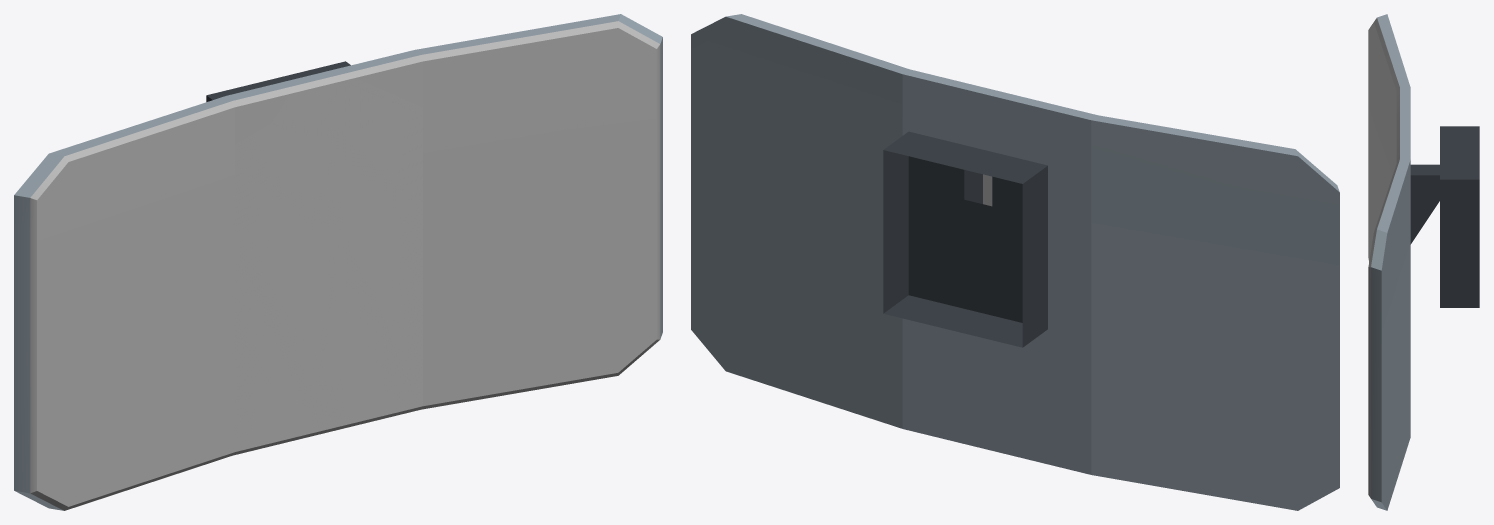
Rendered from Arrivals Monitor.fbx.
3 renders of one model, left to right at view 1: azimuth 30°, elevation 25°; view 2: azimuth 150°, elevation 25°; view 3: azimuth 270°, elevation 25°, orthographic. The views are drawn at different scales.
Parts seen in each view (by area): view 1: Arrivals_Monitor; view 2: Arrivals_Monitor; view 3: Arrivals_Monitor.
Boxes of the visible parts, <box> form: Arrivals_Monitor: <box>14,14,662,510</box>; Arrivals_Monitor: <box>691,14,1339,510</box>; Arrivals_Monitor: <box>1368,14,1479,510</box>.
Bounding box in the file's own units: 1.64 × 0.8582 × 0.3109.
